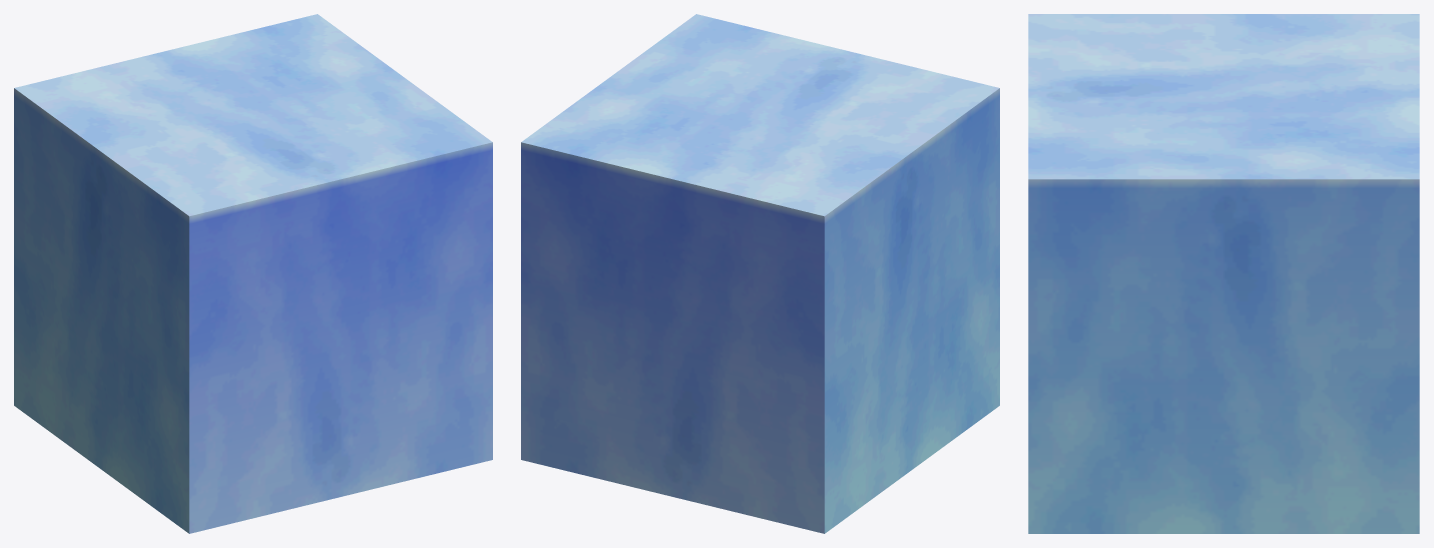
File: ewm_ice_brock.glb
3 renders of one model, left to right at view 1: azimuth 30°, elevation 25°; view 2: azimuth 150°, elevation 25°; view 3: azimuth 270°, elevation 25°, orthographic. The views are drawn at different scales.
Parts seen in each view (by area): view 1: ewm_ice_brock; view 2: ewm_ice_brock; view 3: ewm_ice_brock.
Part boxes in pixels (bbox=[...]): ewm_ice_brock: bbox=[14, 14, 492, 533]; ewm_ice_brock: bbox=[521, 14, 999, 533]; ewm_ice_brock: bbox=[1028, 14, 1419, 533].
Size of the model in its own units: 6.25 by 6.25 by 6.25.
1 material, 1 textured.
